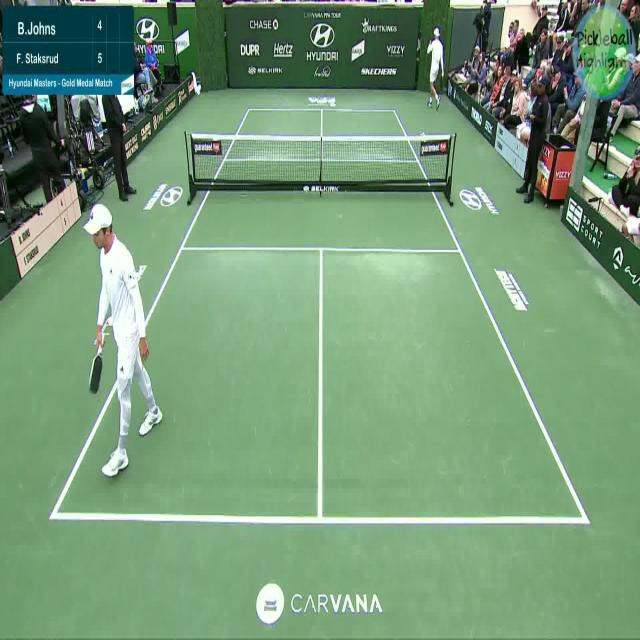Court: (49, 109, 588, 522)
